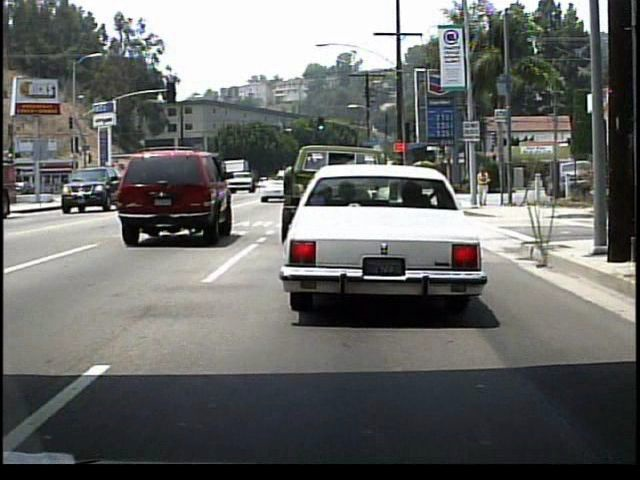person: (477, 167, 492, 209)
